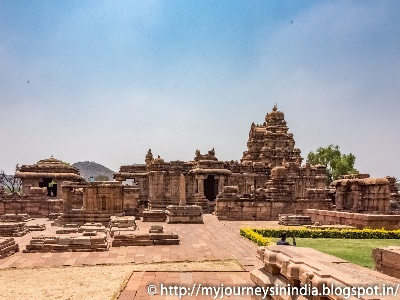gopuram: (237, 113, 304, 184)
mandapa: (10, 162, 85, 205), (181, 164, 236, 203)
